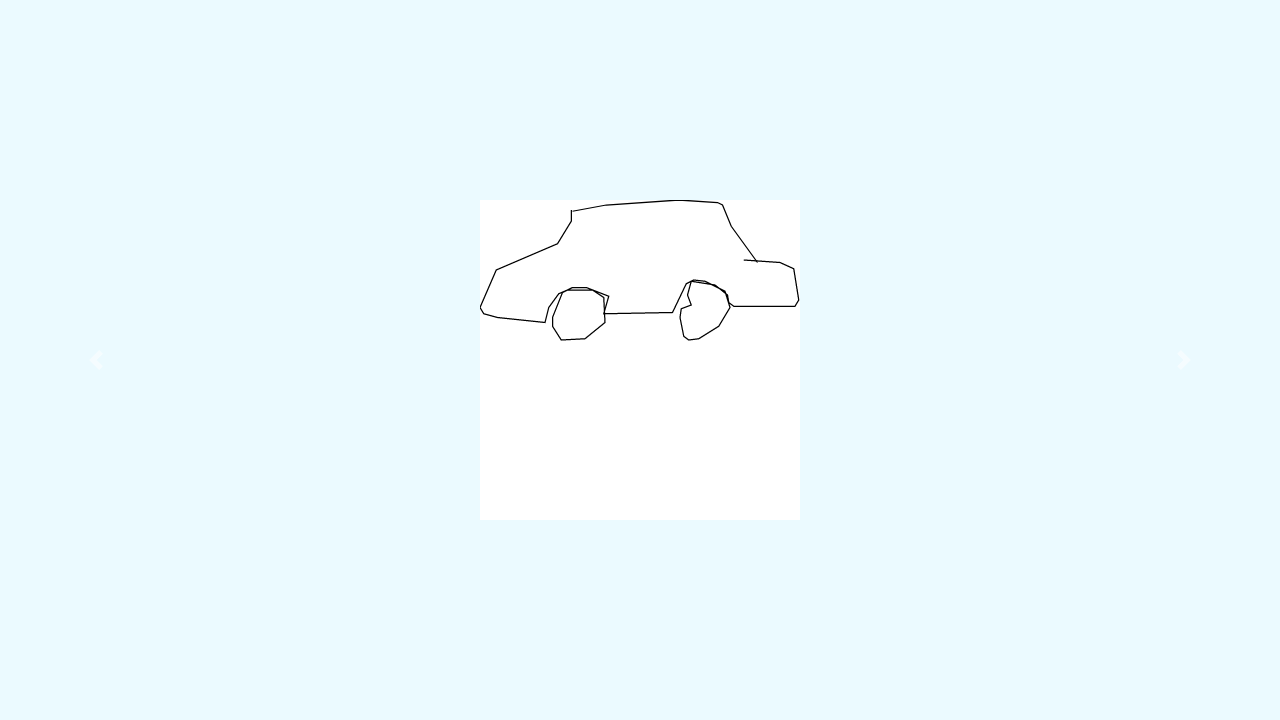car: (474, 194, 805, 349)
